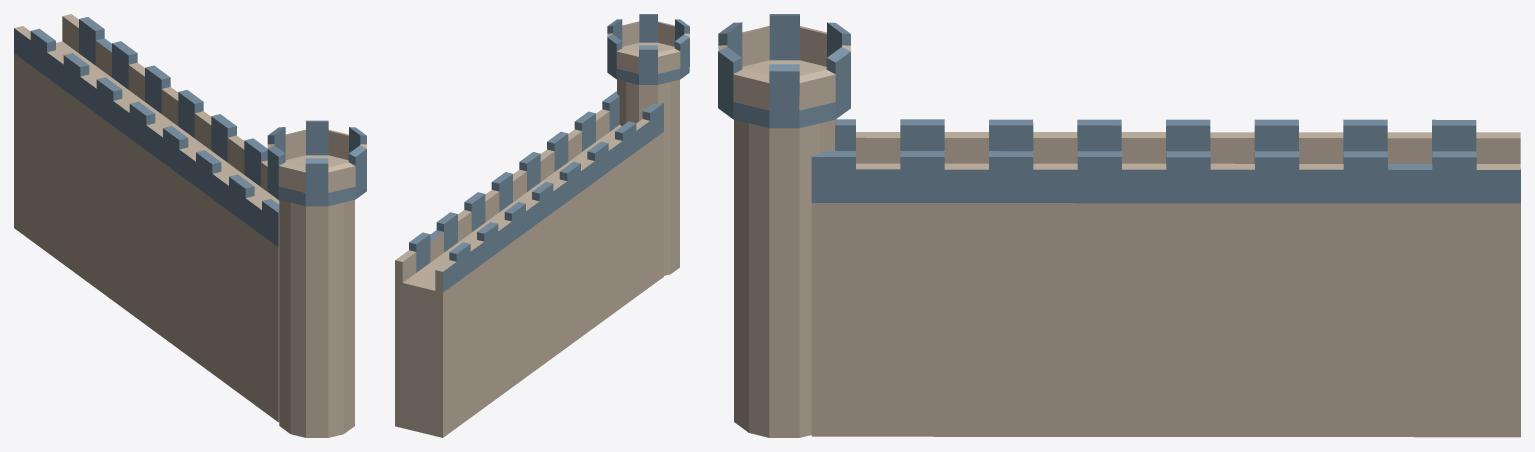
File: Wall2.fbx
The picture shows the model from 3 angles, left to right: view 1: azimuth 30°, elevation 25°; view 2: azimuth 150°, elevation 25°; view 3: azimuth 270°, elevation 25°; orthographic projection. The views are drawn at different scales.
Visible parts, largest first — view 1: Wall2; view 2: Wall2; view 3: Wall2.
Boxes of the visible parts, left/top/right/bottom form: Wall2: left=14, top=14, right=366, bottom=437; Wall2: left=395, top=14, right=689, bottom=437; Wall2: left=718, top=14, right=1520, bottom=437.
Bounding box in the file's own units: 306 × 939 × 1808.
